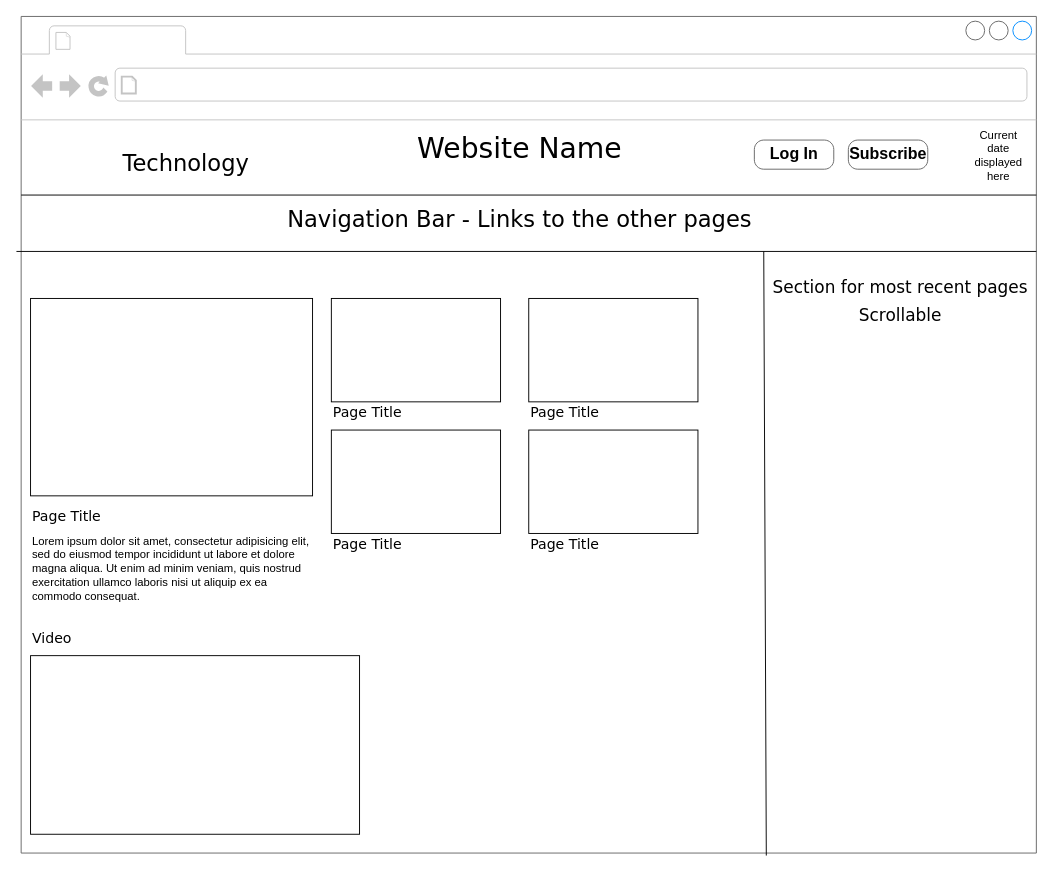
This 1062x873 diagram has some shape labels left out. The centre of each missing label's shape, as x and y in pixels:
"https://www.default.com" belongs at point (260, 84).
"Page 1" belongs at point (129, 39).
